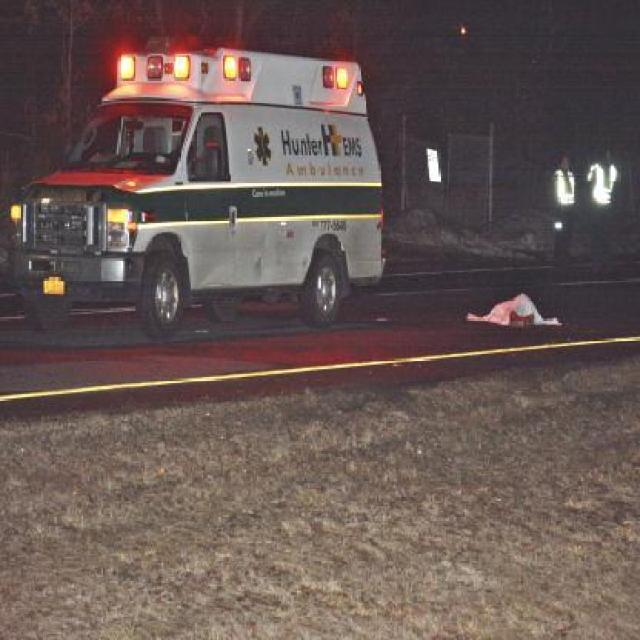Ambulance: (24, 49, 407, 335)
